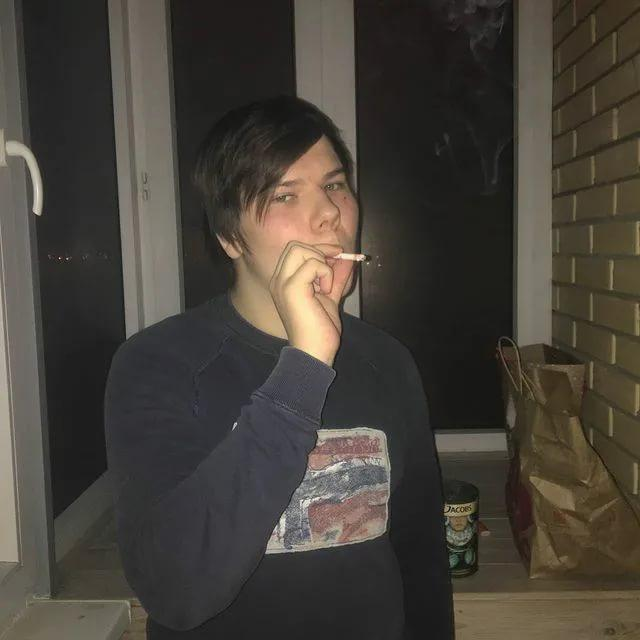smoke: (328, 245, 373, 268)
